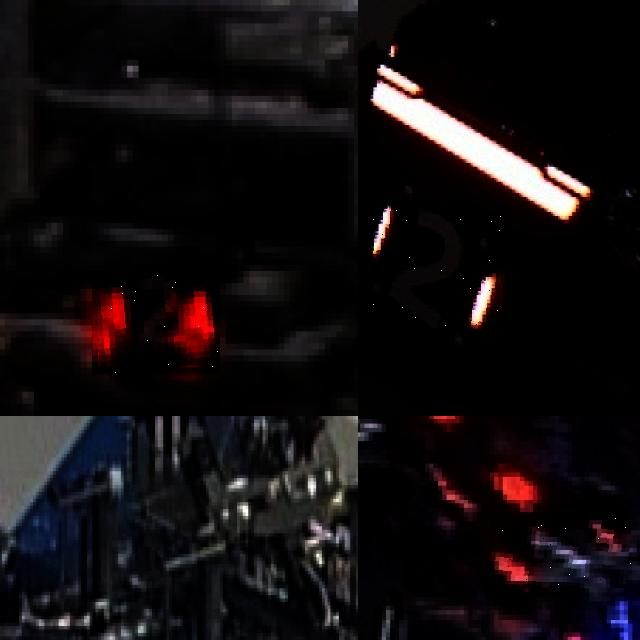R1: (490, 512, 632, 588)
R2: (371, 203, 507, 331), (92, 271, 220, 374)
